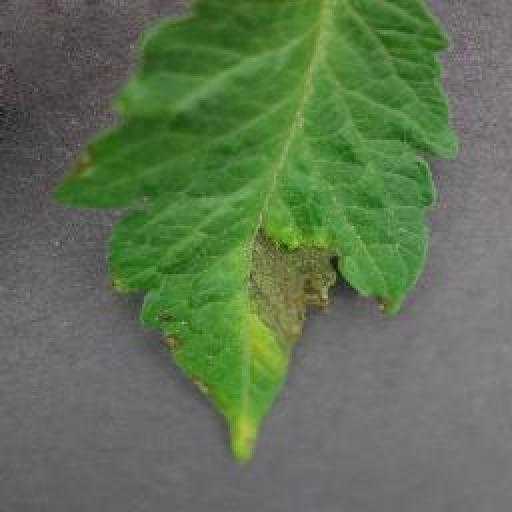disease_tomato: (48, 0, 462, 460)
